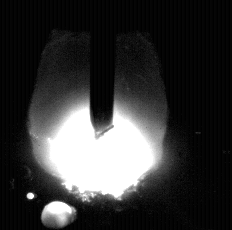arame: (91, 0, 115, 138)
poca: (31, 0, 165, 230)
